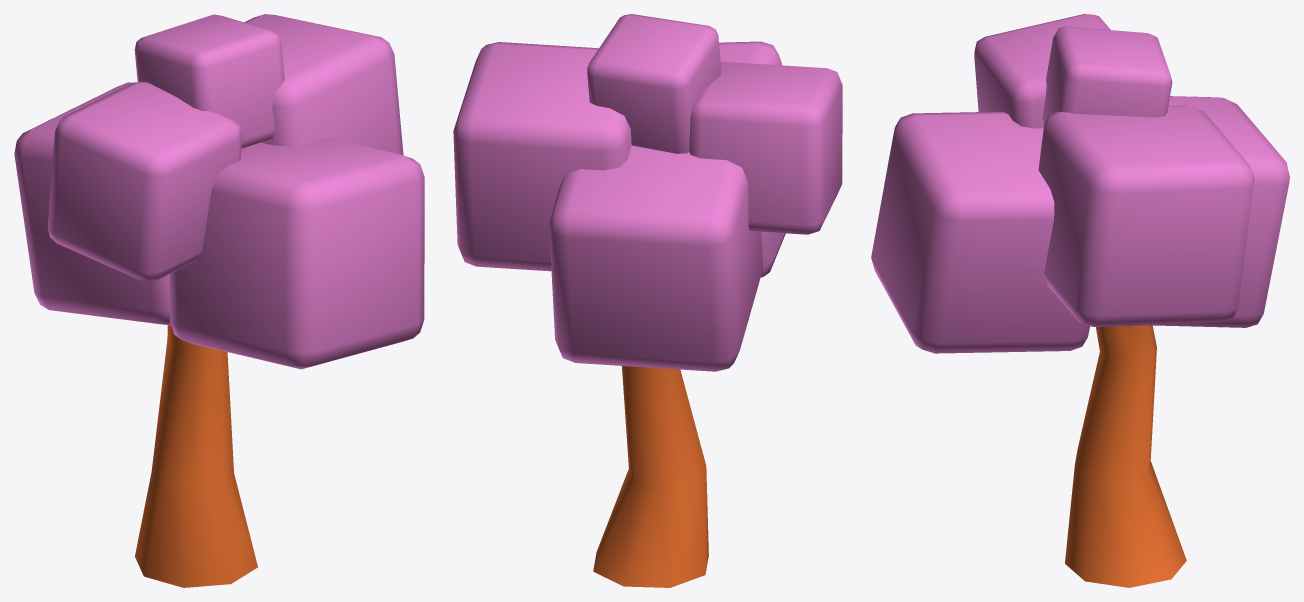
3 renders of one model, left to right at view 1: azimuth 30°, elevation 25°; view 2: azimuth 150°, elevation 25°; view 3: azimuth 270°, elevation 25°, orthographic. The views are drawn at different scales.
Parts seen in each view (by area): view 1: Leaf.001, Trunk.001; view 2: Leaf.001, Trunk.001; view 3: Leaf.001, Trunk.001.
Part boxes in pixels (box(x1,y1,x2,y2)): Leaf.001: box(14, 14, 424, 369); Trunk.001: box(135, 325, 257, 587); Leaf.001: box(453, 14, 842, 371); Trunk.001: box(593, 366, 708, 587); Leaf.001: box(871, 14, 1289, 353); Trunk.001: box(1065, 325, 1186, 587).
Size of the model in its own units: 2054 by 3016 by 2191.
